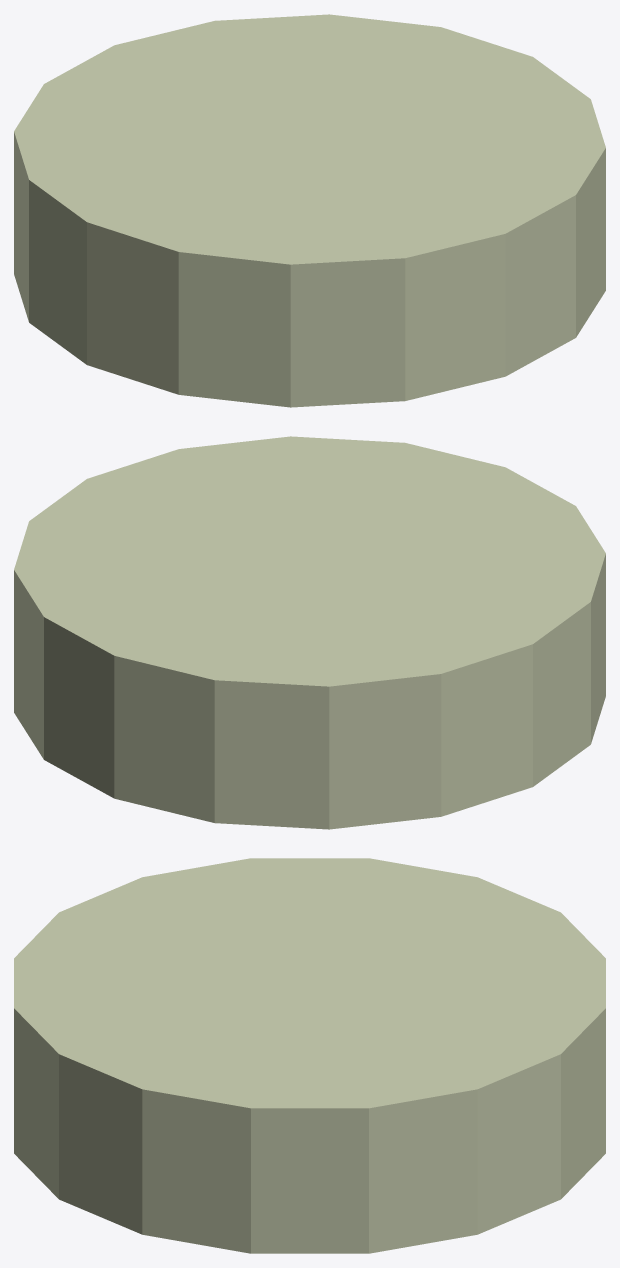
File: Hamal_Avionics_1_Collider.obj
3 renders of one model, top to bottom at view 1: azimuth 30°, elevation 25°; view 2: azimuth 150°, elevation 25°; view 3: azimuth 270°, elevation 25°, orthographic.
Visible parts, largest first — view 1: Hamal_Avionics_1_Collider; view 2: Hamal_Avionics_1_Collider; view 3: Hamal_Avionics_1_Collider.
Part boxes in pixels (left/top/right/bottom): Hamal_Avionics_1_Collider: left=14, top=14, right=605, bottom=407; Hamal_Avionics_1_Collider: left=14, top=436, right=605, bottom=829; Hamal_Avionics_1_Collider: left=14, top=858, right=605, bottom=1253.
Bounding box in the file's own units: 1.25 × 0.3388 × 1.25.
